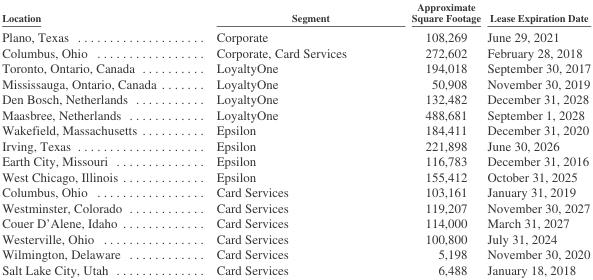table: (1, 0, 590, 276)
table column: (185, 0, 378, 276), (1, 0, 185, 276), (483, 0, 590, 276), (378, 0, 483, 276)
table column header: (1, 0, 590, 26)
table row: (1, 0, 590, 26), (1, 26, 590, 44), (1, 44, 590, 60), (1, 75, 590, 91), (1, 106, 590, 122), (1, 137, 590, 153), (1, 168, 590, 184), (1, 199, 590, 215), (1, 230, 590, 246), (1, 60, 590, 75), (1, 91, 590, 106), (1, 122, 590, 137), (1, 153, 590, 168), (1, 184, 590, 199), (1, 215, 590, 230), (1, 246, 590, 261), (1, 261, 590, 276)
